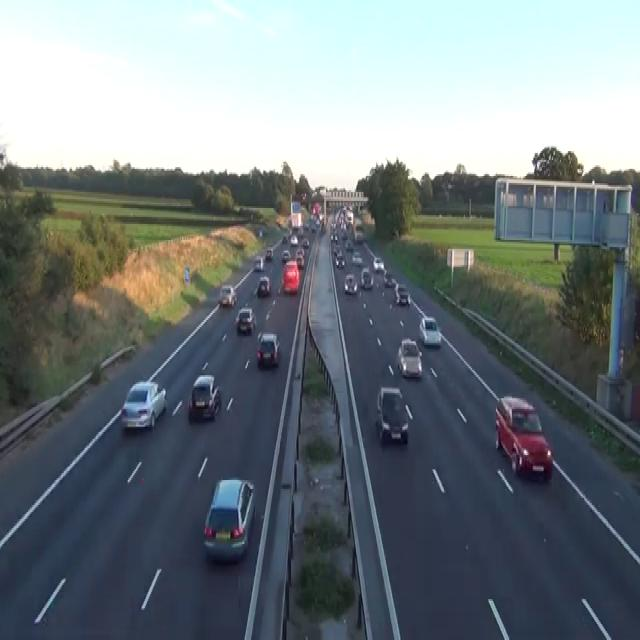Car: (495, 394, 553, 482), (203, 478, 255, 564), (120, 379, 167, 430), (375, 386, 408, 444), (188, 374, 220, 422), (397, 338, 422, 378), (256, 331, 279, 368), (418, 314, 441, 346), (234, 306, 256, 334), (282, 260, 299, 294), (219, 284, 237, 308), (393, 282, 410, 306), (257, 275, 271, 297), (360, 267, 373, 288), (344, 274, 357, 293), (383, 270, 396, 286), (372, 256, 384, 272), (295, 247, 304, 267), (335, 252, 345, 268), (253, 256, 264, 270), (351, 251, 362, 265), (304, 219, 316, 231), (275, 215, 286, 228), (354, 229, 364, 242), (281, 249, 290, 263), (265, 247, 273, 260), (345, 240, 353, 251), (300, 192, 307, 204), (290, 235, 298, 245), (354, 217, 362, 227), (333, 244, 341, 254), (258, 228, 268, 236), (301, 238, 309, 247), (330, 233, 338, 242), (282, 233, 289, 243), (341, 228, 347, 238), (275, 217, 281, 226), (310, 222, 316, 231), (303, 222, 309, 231), (259, 228, 262, 236)
